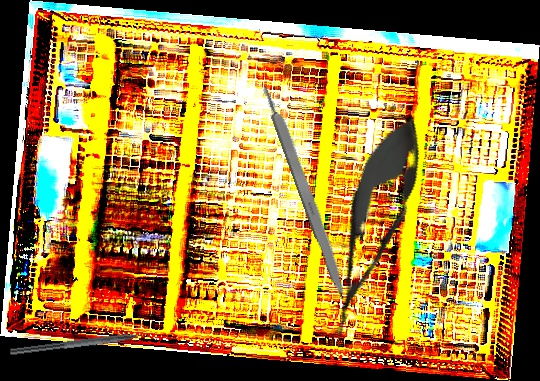Chopper: (8, 327, 162, 366)
Micro Scissor: (309, 106, 437, 349)
Scalpel Handle: (259, 81, 353, 302)
